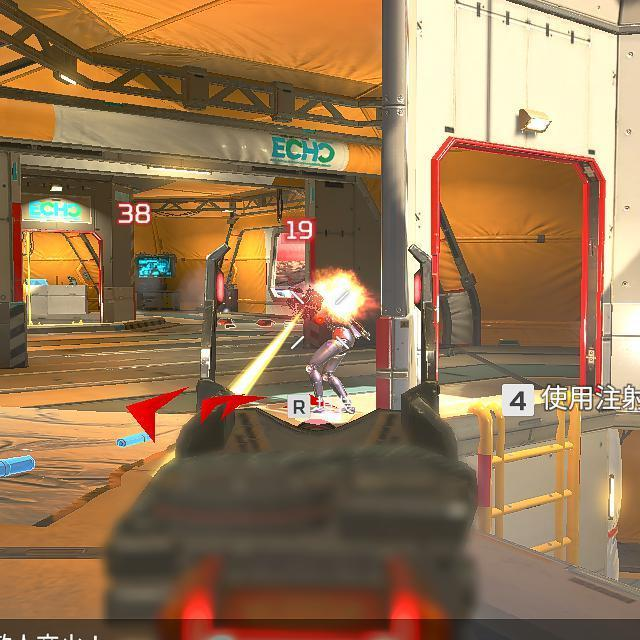avatar: (303, 269, 367, 414)
